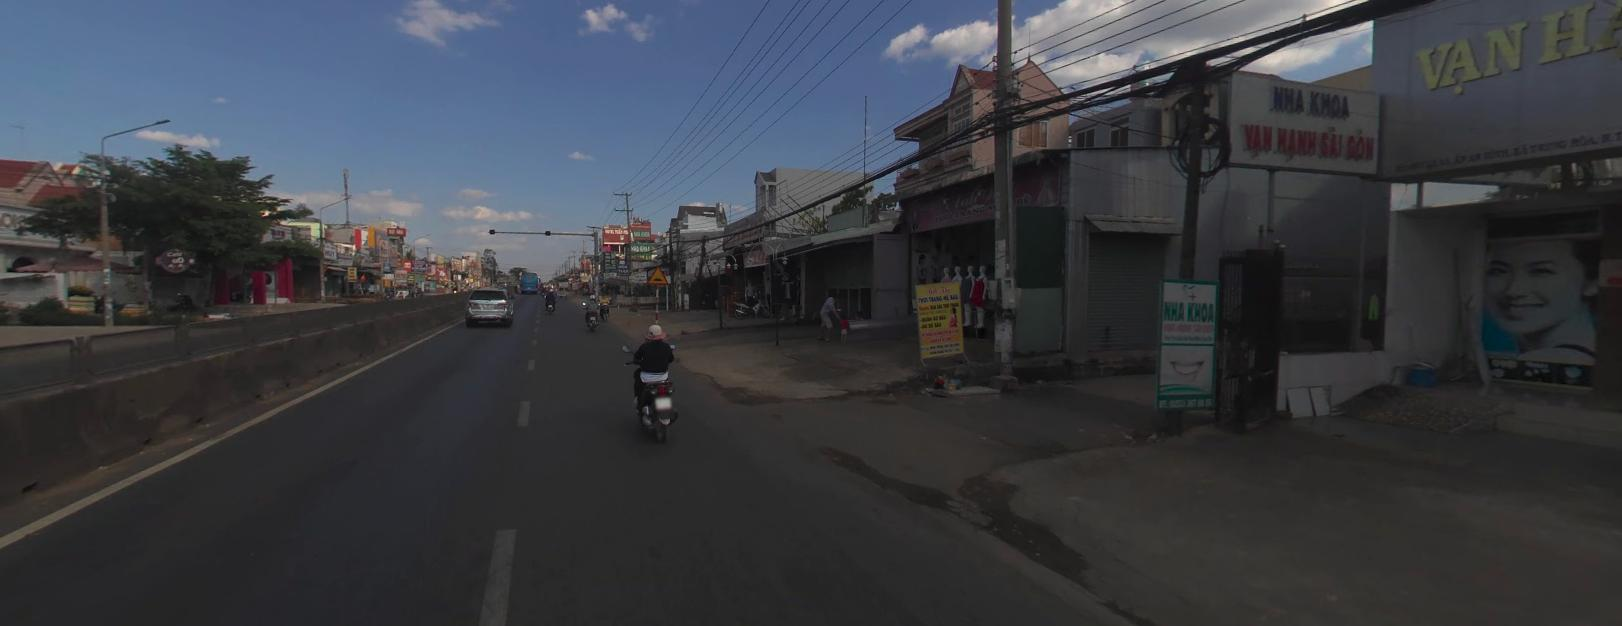Nguy hiem: (647, 264, 668, 282)
